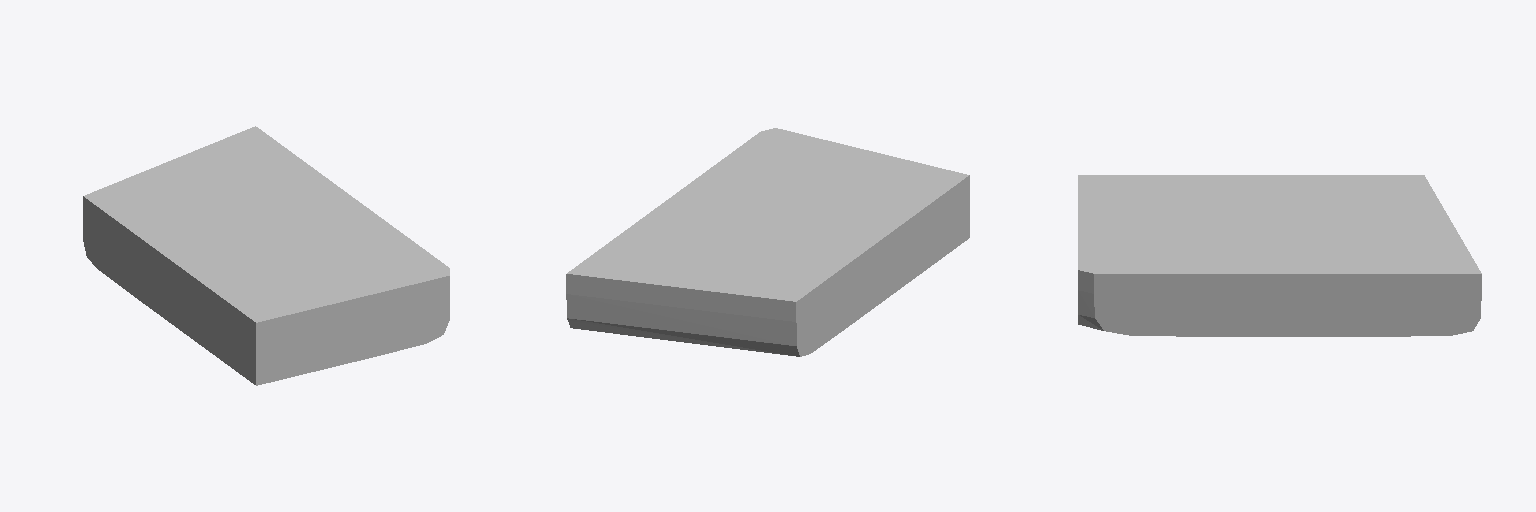
File: triangle_collision_70.obj
The picture shows the model from 3 angles: view 1: azimuth 30°, elevation 25°; view 2: azimuth 150°, elevation 25°; view 3: azimuth 270°, elevation 25°; orthographic projection.
Bounding box in the file's own units: 0.0054 × 0.0016 × 0.0094.